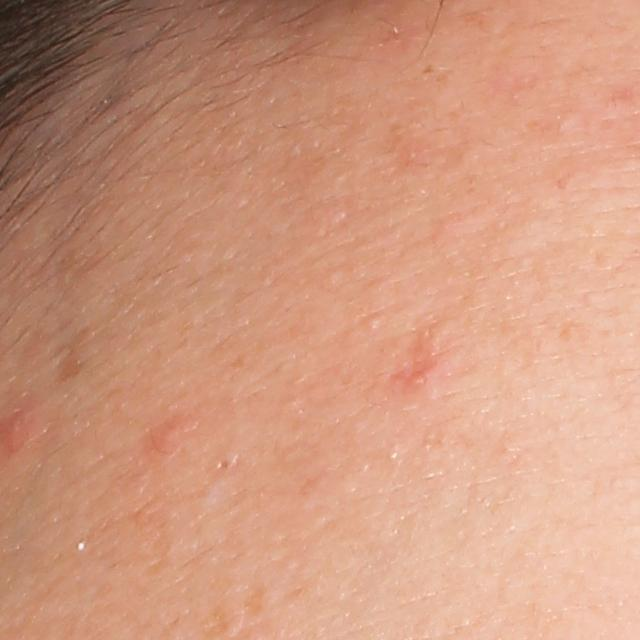comedo: (362, 312, 382, 332)
papule: (142, 407, 204, 464), (405, 369, 429, 391)
